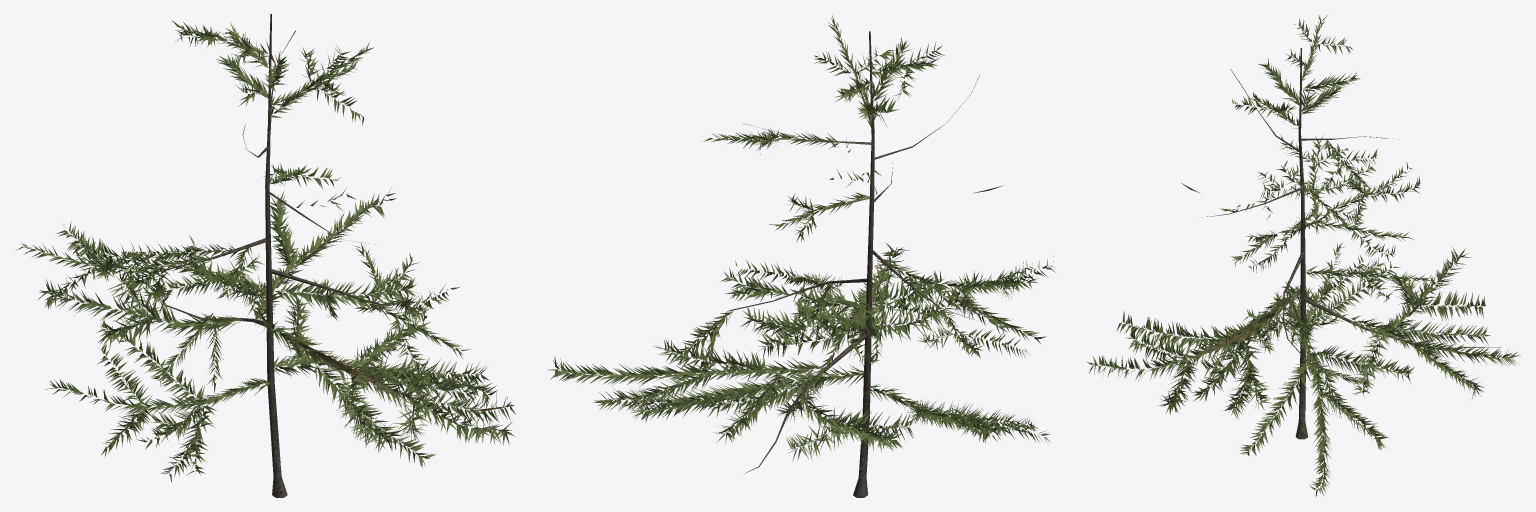
File: fir_small_b_lod0.gltf
3 views of the same model, side by side, from view 1: azimuth 30°, elevation 25°; view 2: azimuth 150°, elevation 25°; view 3: azimuth 270°, elevation 25° (orthographic). The views are drawn at different scales.
Parts seen in each view (by area): view 1: fir_sapling_c, fir_sapling_c.001; view 2: fir_sapling_c, fir_sapling_c.001; view 3: fir_sapling_c, fir_sapling_c.001.
Part boxes in pixels (x1=…): fir_sapling_c: x1=16, y1=20, x2=515, y2=482; fir_sapling_c.001: x1=107, y1=14, x2=410, y2=497; fir_sapling_c: x1=547, y1=14, x2=1055, y2=461; fir_sapling_c.001: x1=727, y1=31, x2=979, y2=497; fir_sapling_c: x1=1087, y1=15, x2=1520, y2=497; fir_sapling_c.001: x1=1197, y1=48, x2=1500, y2=439.
Size of the model in its own units: 0.5881 by 0.6276 by 0.6342.
Materials: 2 (2 with a texture image).
